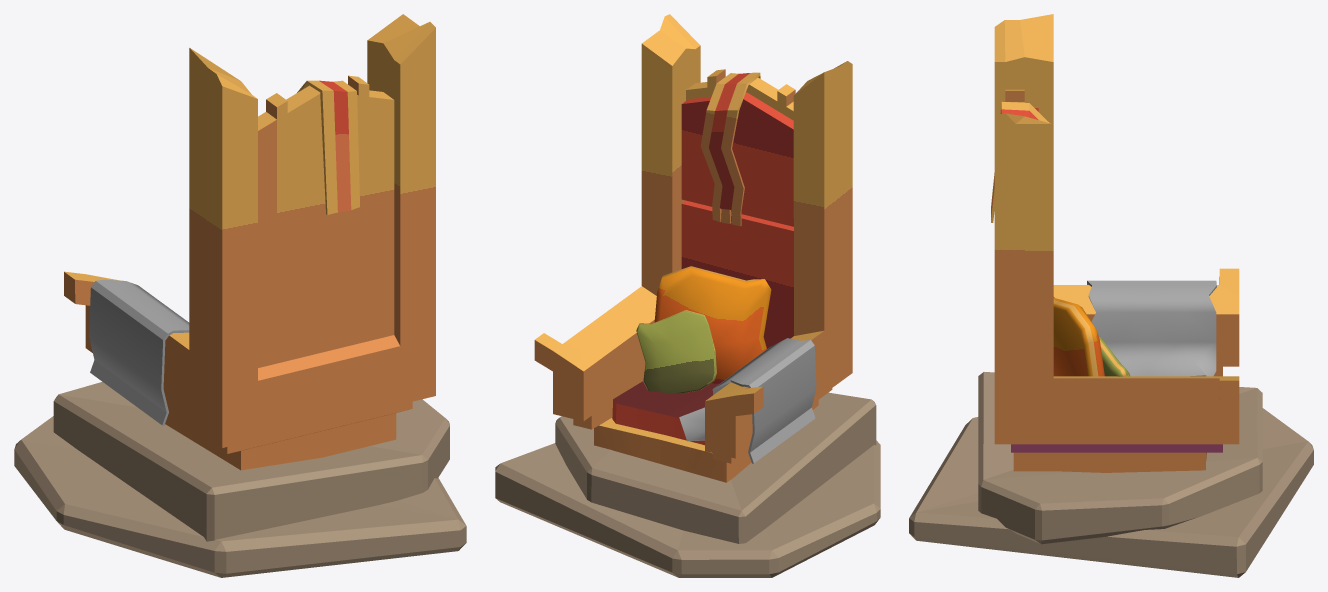
File: trone_texture.fbx
3 renders of one model, left to right at view 1: azimuth 30°, elevation 25°; view 2: azimuth 150°, elevation 25°; view 3: azimuth 270°, elevation 25°, orthographic. The views are drawn at different scales.
Visible parts, largest first — view 1: polySurface1, polySurface8, polySurface9, polySurface6, polySurface7; view 2: polySurface1, polySurface9, polySurface8, polySurface2, polySurface3, polySurface4, polySurface6, polySurface10, polySurface7; view 3: polySurface1, polySurface9, polySurface8, polySurface6, polySurface4, polySurface7, polySurface10.
Boxes of the visible parts, left/top/right/bottom form: polySurface1: left=64, top=14, right=435, bottom=470; polySurface8: left=53, top=382, right=449, bottom=541; polySurface9: left=14, top=416, right=466, bottom=577; polySurface6: left=89, top=279, right=189, bottom=425; polySurface7: left=297, top=80, right=359, bottom=214; polySurface1: left=534, top=14, right=852, bottom=482; polySurface9: left=495, top=440, right=880, bottom=577; polySurface8: left=555, top=392, right=876, bottom=543; polySurface2: left=612, top=200, right=793, bottom=445; polySurface3: left=681, top=92, right=793, bottom=226; polySurface4: left=654, top=266, right=771, bottom=383; polySurface6: left=679, top=338, right=816, bottom=463; polySurface10: left=636, top=310, right=716, bottom=393; polySurface7: left=700, top=72, right=760, bottom=226; polySurface1: left=994, top=14, right=1239, bottom=472; polySurface9: left=909, top=408, right=1313, bottom=577; polySurface8: left=978, top=372, right=1262, bottom=544; polySurface6: left=1087, top=280, right=1216, bottom=376; polySurface4: left=1053, top=297, right=1104, bottom=376; polySurface7: left=991, top=102, right=1049, bottom=222; polySurface10: left=1098, top=336, right=1130, bottom=376.
Bounding box in the file's own units: 568 × 706 × 584.
2 materials, 1 textured.
